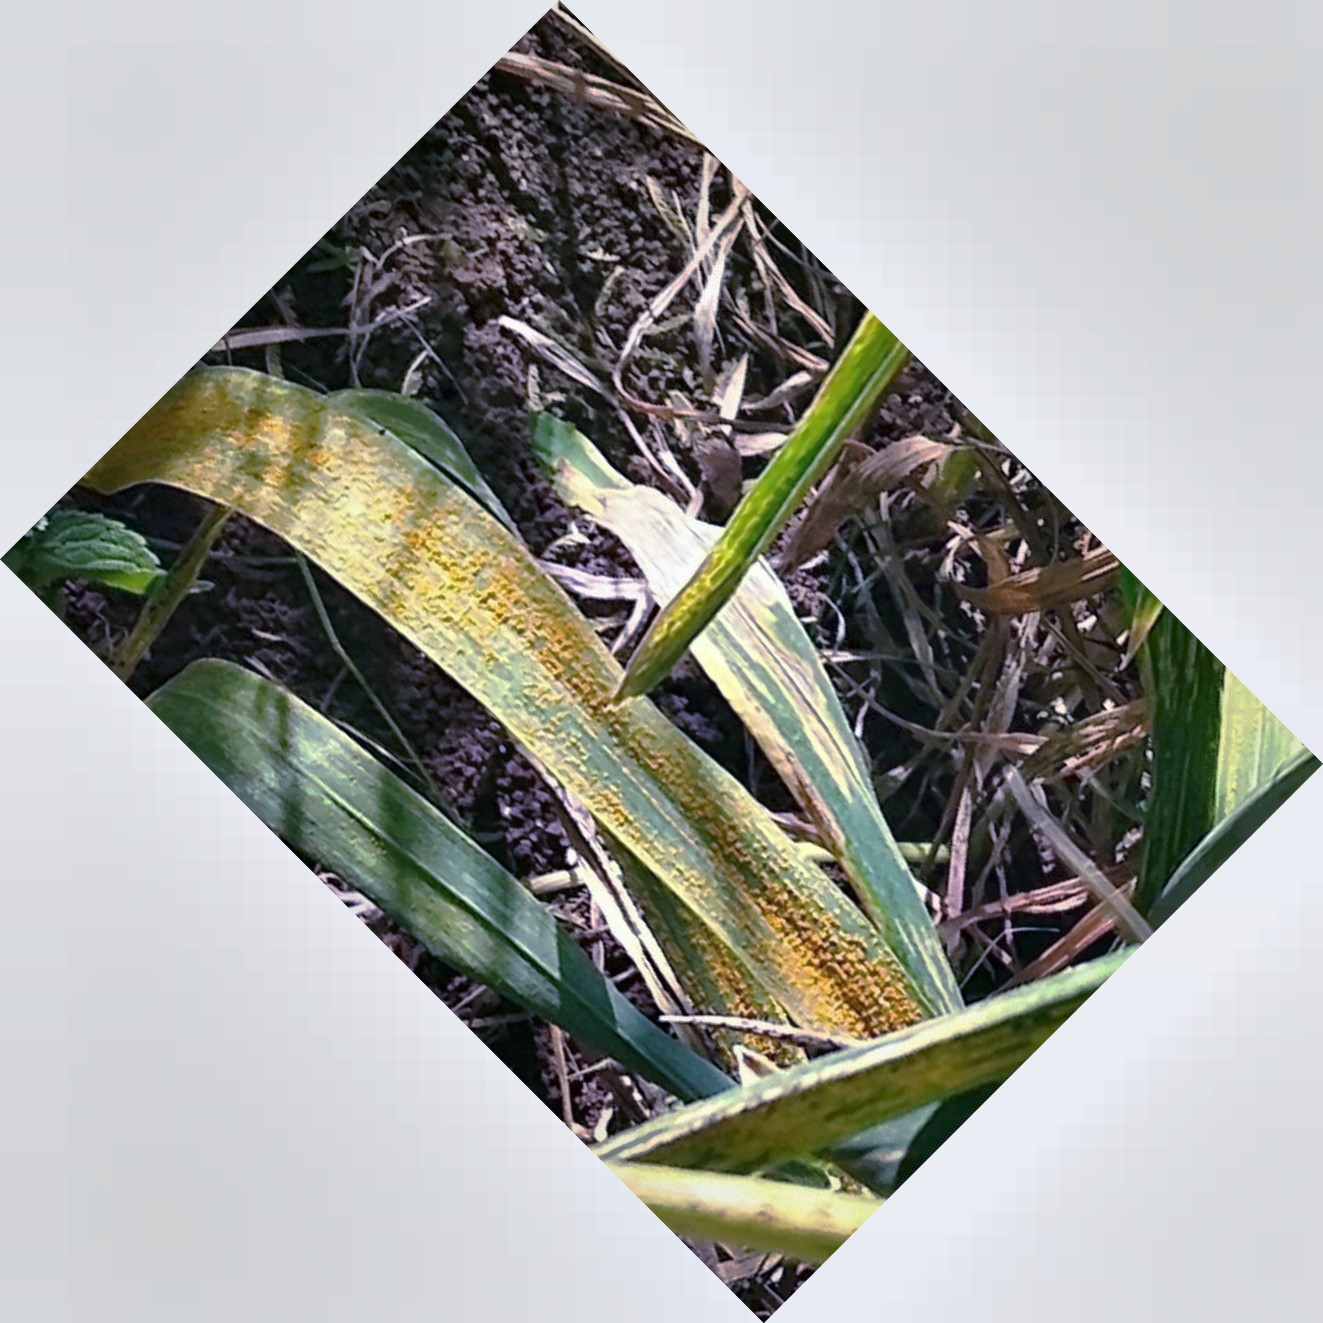Leaf Rust: (189, 417, 892, 1052)
